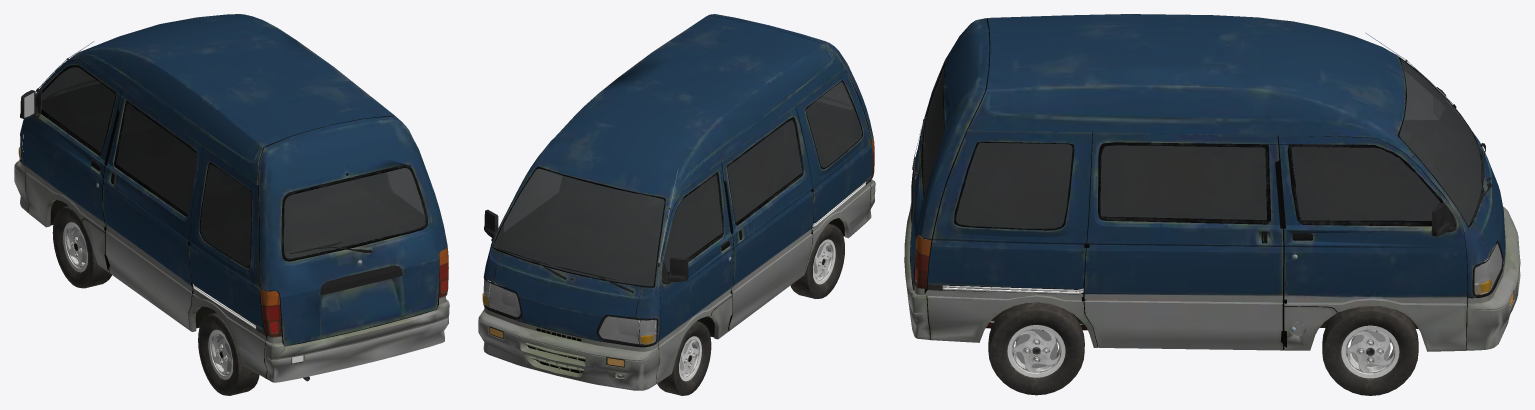
File: hijet_lo.glb
3 renders of one model, left to right at view 1: azimuth 30°, elevation 25°; view 2: azimuth 150°, elevation 25°; view 3: azimuth 270°, elevation 25°, orthographic. The views are drawn at different scales.
Visible parts, largest first — view 1: Body_Body_0, Windows_Windows_0, BlackStuff_Body_0, Trims.001_Trims_0, Wheel_lp.001_Wheel_0_1, Wheel_lp.002_Wheel_0_3, Lights.006_Lights_0, Trims_Trims_0, Lights.007_Lights_0, Body.007_Body_0; view 2: Body_Body_0, Windows_Windows_0, BlackStuff_Body_0, Trims.001_Trims_0, Wheel_lp.001_Wheel_0_1, Wheel_lp.002_Wheel_0_3, Lights.008_Lights_0, Lights.004_Lights_0, Trims.003_Trims_0, Lights.003_Lights_0, Body.007_Body_0, Trims.004_Trims_0; view 3: Body_Body_0, Windows_Windows_0, BlackStuff_Body_0, Wheel_lp.004_Wheel_0_0, Wheel_lp.003_Wheel_0_2, Trims.001_Trims_0, Lights.008_Lights_0, Lights.004_Lights_0, Trims.003_Trims_0, Lights.006_Lights_0, Suspension_suspension_0.
Boxes of the visible parts, x1,y1,x2,y2 form: Body_Body_0: [14, 14, 449, 382]; Windows_Windows_0: [42, 67, 425, 266]; BlackStuff_Body_0: [20, 59, 446, 378]; Trims.001_Trims_0: [41, 65, 427, 267]; Wheel_lp.001_Wheel_0_1: [198, 312, 259, 395]; Wheel_lp.002_Wheel_0_3: [52, 205, 111, 288]; Lights.006_Lights_0: [260, 247, 448, 337]; Trims_Trims_0: [36, 58, 402, 295]; Lights.007_Lights_0: [261, 249, 447, 336]; Body.007_Body_0: [50, 200, 215, 328]; Body_Body_0: [478, 14, 875, 390]; Windows_Windows_0: [493, 81, 861, 286]; BlackStuff_Body_0: [485, 17, 871, 383]; Trims.001_Trims_0: [492, 80, 862, 287]; Wheel_lp.001_Wheel_0_1: [790, 223, 844, 298]; Wheel_lp.002_Wheel_0_3: [657, 321, 711, 395]; Lights.008_Lights_0: [482, 279, 656, 344]; Lights.004_Lights_0: [482, 278, 656, 344]; Trims.003_Trims_0: [484, 209, 688, 284]; Lights.003_Lights_0: [483, 276, 657, 346]; Body.007_Body_0: [539, 201, 844, 343]; Trims.004_Trims_0: [497, 248, 634, 293]; Body_Body_0: [904, 14, 1520, 351]; Windows_Windows_0: [923, 59, 1482, 229]; BlackStuff_Body_0: [910, 18, 1503, 350]; Wheel_lp.004_Wheel_0_0: [988, 302, 1084, 395]; Wheel_lp.003_Wheel_0_2: [1322, 306, 1418, 395]; Trims.001_Trims_0: [921, 57, 1483, 230]; Lights.008_Lights_0: [1474, 244, 1501, 294]; Lights.004_Lights_0: [1475, 244, 1502, 294]; Trims.003_Trims_0: [1431, 87, 1456, 236]; Lights.006_Lights_0: [914, 234, 931, 288]; Suspension_suspension_0: [986, 314, 1087, 368].
Size of the model in its own units: 1.64 by 1.85 by 3.39.
6 materials, 6 textured.
